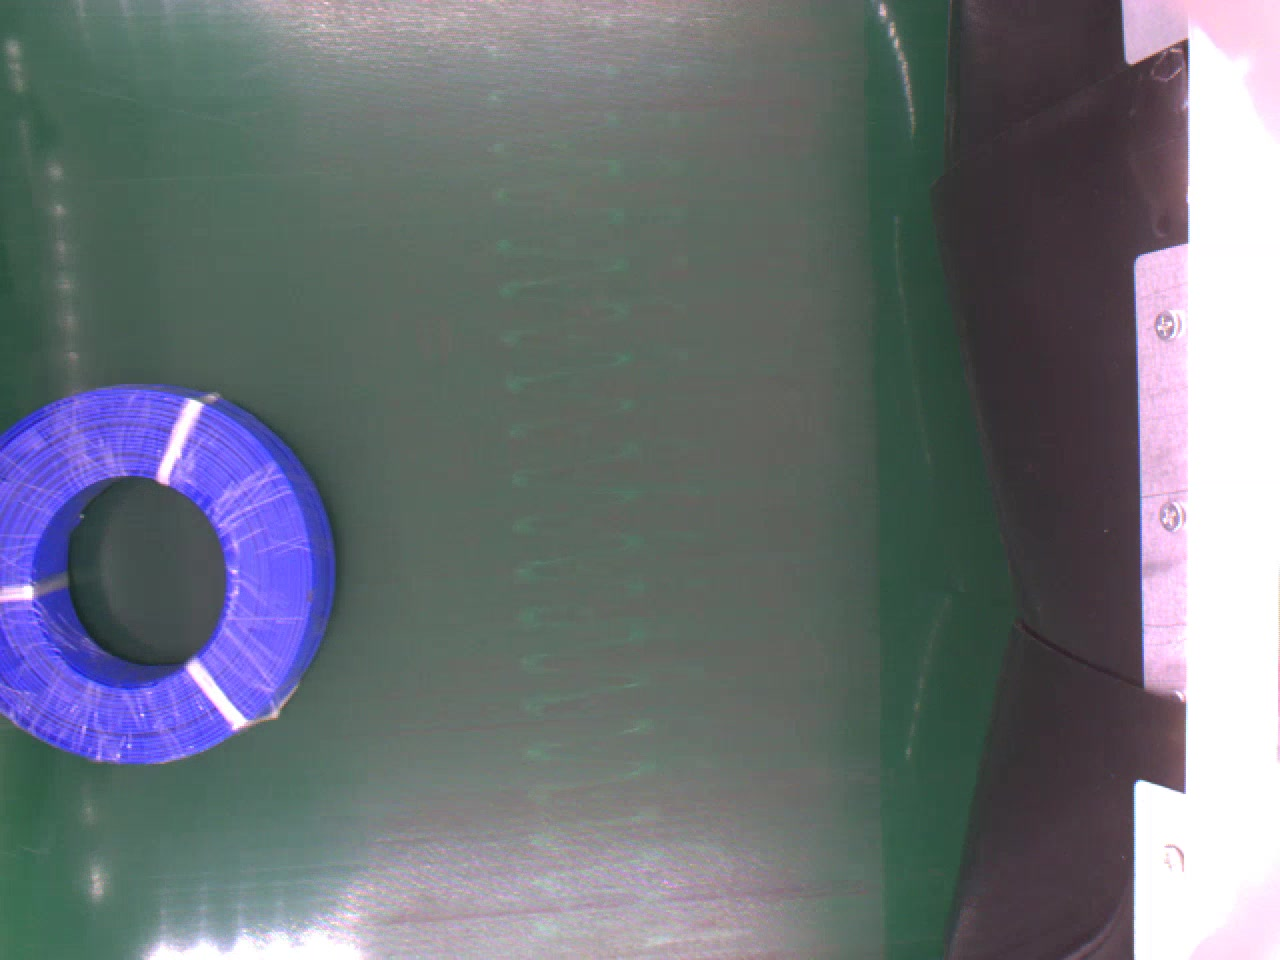blue: (0, 381, 337, 765)
